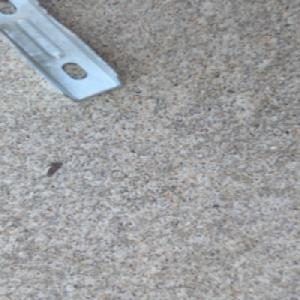ClampPart: (0, 0, 127, 103)
